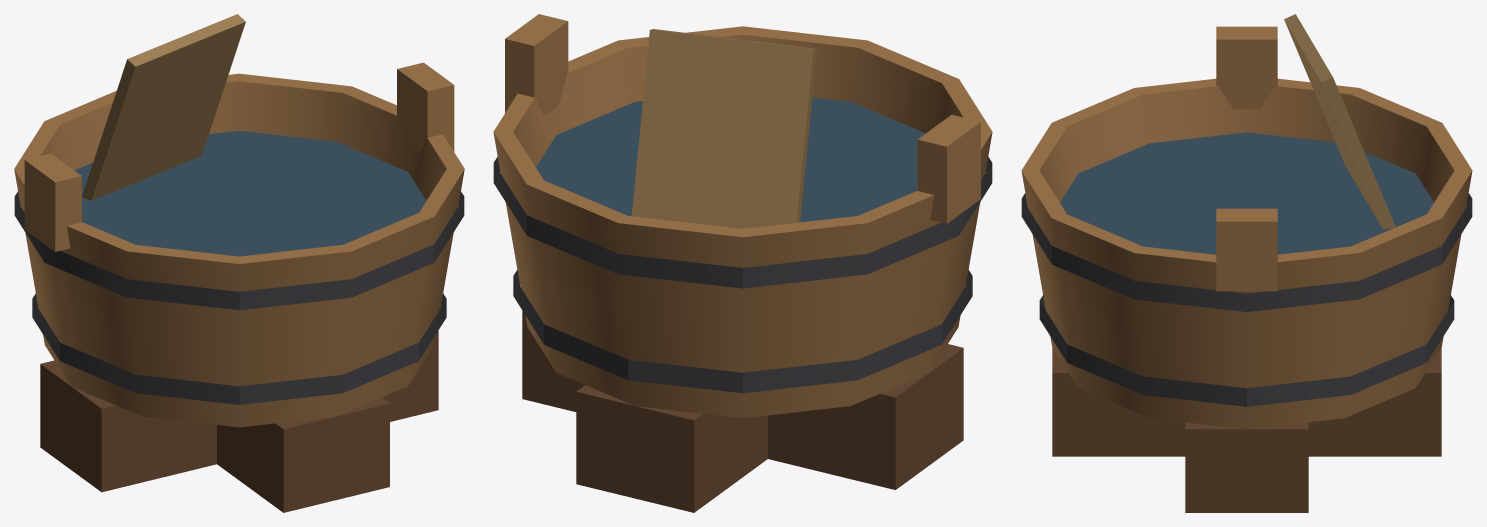
File: Washtub.fbx
3 renders of one model, left to right at view 1: azimuth 30°, elevation 25°; view 2: azimuth 150°, elevation 25°; view 3: azimuth 270°, elevation 25°, orthographic. The views are drawn at different scales.
Parts seen in each view (by area): view 1: Washtub; view 2: Washtub; view 3: Washtub.
Boxes of the visible parts, <box> form: Washtub: <box>14,14,464,512</box>; Washtub: <box>493,14,992,512</box>; Washtub: <box>1021,14,1472,512</box>.
Size of the model in its own units: 0.9 by 0.8044 by 0.88.
